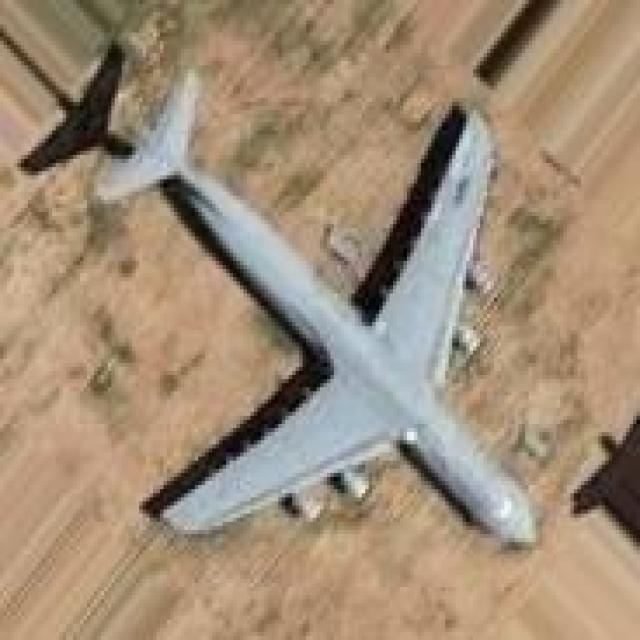C-5_TopDown: (17, 33, 546, 550)
